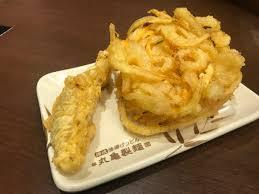kakiage: (114, 13, 235, 126)
